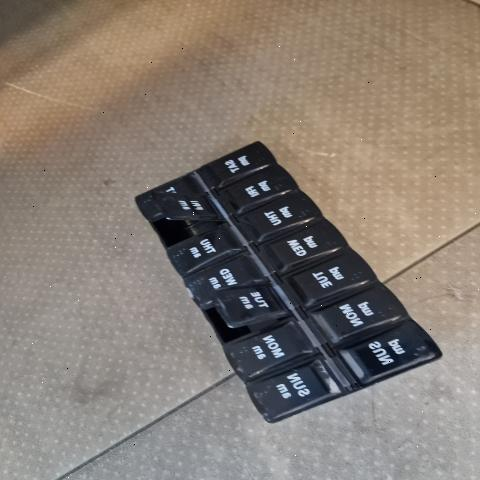Open: (201, 304, 293, 344), (156, 212, 227, 245)
